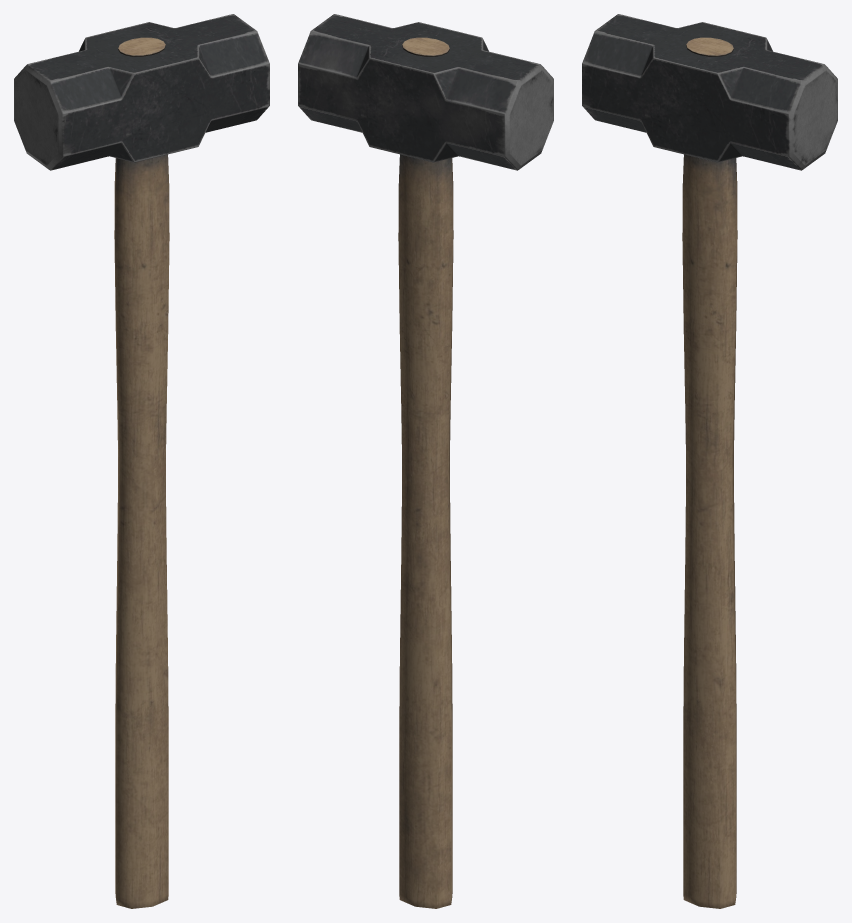
File: hammer.gltf
3 views of the same model, side by side, from view 1: azimuth 30°, elevation 25°; view 2: azimuth 150°, elevation 25°; view 3: azimuth 330°, elevation 25° (orthographic).
Parts seen in each view (by area): view 1: sledge_hammer; view 2: sledge_hammer; view 3: sledge_hammer.
Boxes of the visible parts, x1,y1,x2,y2 form: sledge_hammer: [14, 14, 269, 908]; sledge_hammer: [298, 14, 553, 908]; sledge_hammer: [582, 14, 837, 908].
Bounding box in the file's own units: 1.08 × 4.17 × 0.4353.
Materials: 1 (1 with a texture image).
